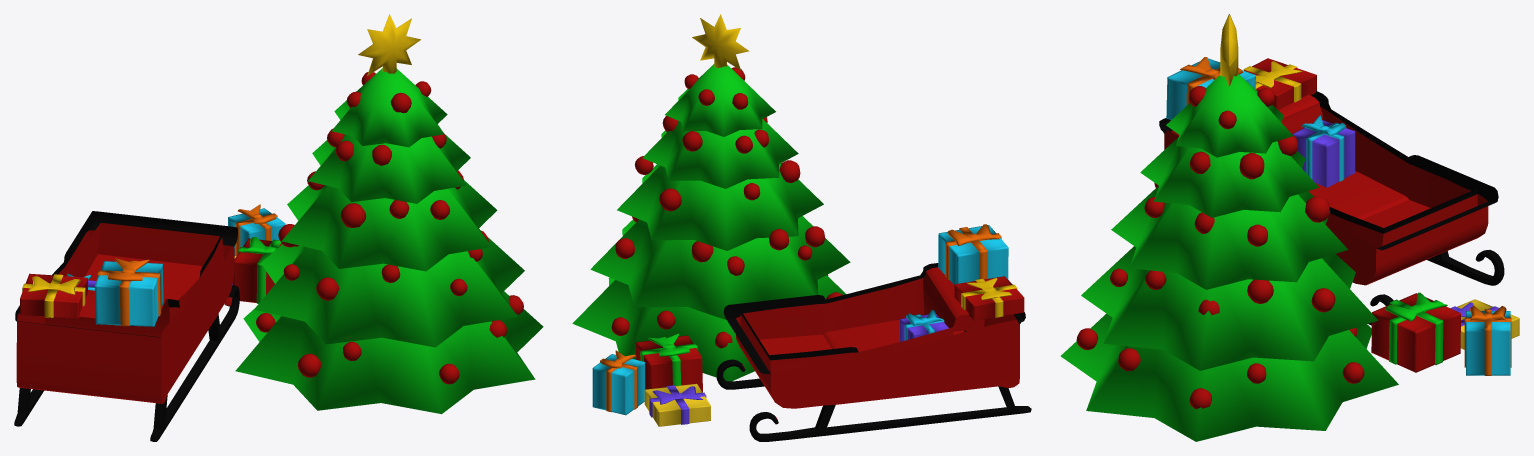
3 views of the same model, side by side, from view 1: azimuth 30°, elevation 25°; view 2: azimuth 150°, elevation 25°; view 3: azimuth 270°, elevation 25° (orthographic). The views are drawn at different scales.
Parts seen in each view (by area): view 1: Cone_1, NurbsCurve_11, Sphere.001_3, Cube.003_8, Cube.004_9, Cube_5, Cylinder_4, Cube.002_7; view 2: Cone_1, NurbsCurve_11, Sphere.001_3, Cube.003_8, Cube_5, Cube.002_7, Cube.004_9, Cube.001_6, Cylinder_4, Cube.005_10; view 3: Cone_1, NurbsCurve_11, Sphere.001_3, Cube_5, Cube.005_10, Cube.002_7, Cube.004_9, Cube.003_8, Cylinder_4, Cube.001_6.
Boxes of the visible parts, <box> form: Cone_1: <box>235,68,543,414</box>; NurbsCurve_11: <box>14,211,239,441</box>; Sphere.001_3: <box>256,72,523,384</box>; Cube.003_8: <box>95,258,163,326</box>; Cube.004_9: <box>20,273,87,318</box>; Cube_5: <box>233,237,281,303</box>; Cylinder_4: <box>358,14,420,75</box>; Cube.002_7: <box>228,204,285,255</box>; Cone_1: <box>572,64,850,381</box>; NurbsCurve_11: <box>716,263,1031,441</box>; Sphere.001_3: <box>611,67,842,348</box>; Cube.003_8: <box>938,224,1008,284</box>; Cube_5: <box>635,333,702,392</box>; Cube.002_7: <box>592,350,645,415</box>; Cube.004_9: <box>954,276,1024,320</box>; Cube.001_6: <box>644,383,710,426</box>; Cylinder_4: <box>692,14,749,70</box>; Cube.005_10: <box>899,309,948,341</box>; Cone_1: <box>1060,74,1398,441</box>; NurbsCurve_11: <box>1159,91,1504,325</box>; Sphere.001_3: <box>1076,86,1364,408</box>; Cube_5: <box>1371,292,1460,372</box>; Cube.005_10: <box>1292,115,1355,187</box>; Cube.002_7: <box>1464,306,1511,375</box>; Cube.004_9: <box>1243,58,1316,109</box>; Cube.003_8: <box>1166,57,1255,119</box>; Cylinder_4: <box>1220,14,1238,86</box>; Cube.001_6: <box>1450,299,1519,349</box>.
Bounding box in the file's own units: 5.14 × 3.34 × 3.88.
